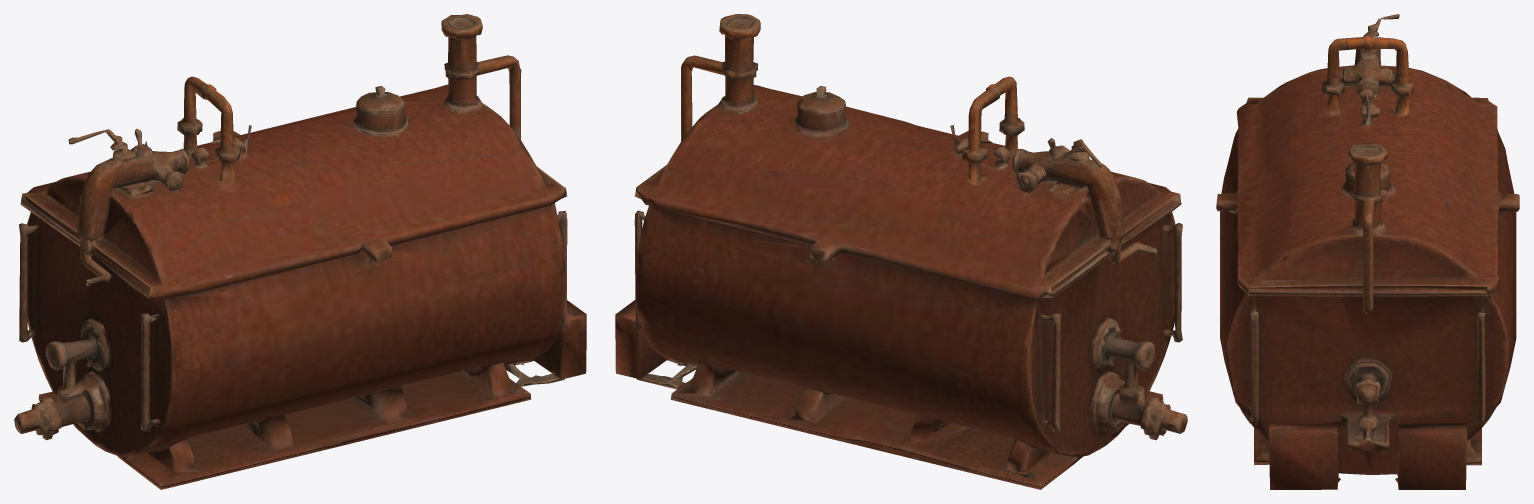
Rendered from boiler.glb.
The picture shows the model from 3 angles, left to right: view 1: azimuth 30°, elevation 25°; view 2: azimuth 150°, elevation 25°; view 3: azimuth 270°, elevation 25°; orthographic projection. The views are drawn at different scales.
Parts seen in each view (by area): view 1: Mesh_0; view 2: Mesh_0; view 3: Mesh_0.
Part boxes in pixels (<box>): Mesh_0: <box>14,14,586,489</box>; Mesh_0: <box>615,14,1187,489</box>; Mesh_0: <box>1216,14,1519,489</box>.
Bounding box in the file's own units: 1.9 × 1.17 × 1.01.
Materials: 1 (1 with a texture image).
